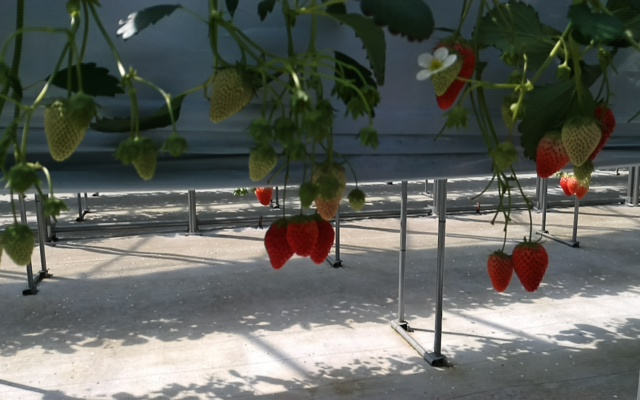GreenStrawberry: (39, 98, 97, 163), (207, 65, 255, 125), (313, 160, 354, 223), (560, 113, 601, 169), (1, 223, 35, 267), (430, 49, 460, 97), (245, 144, 281, 183), (129, 138, 159, 180), (297, 183, 317, 209), (348, 188, 365, 212)
MatureStrawberry: (427, 33, 481, 113), (575, 103, 616, 163), (509, 238, 552, 294), (533, 128, 574, 182), (262, 216, 300, 272), (286, 216, 320, 260), (485, 249, 514, 295), (308, 217, 335, 265)
